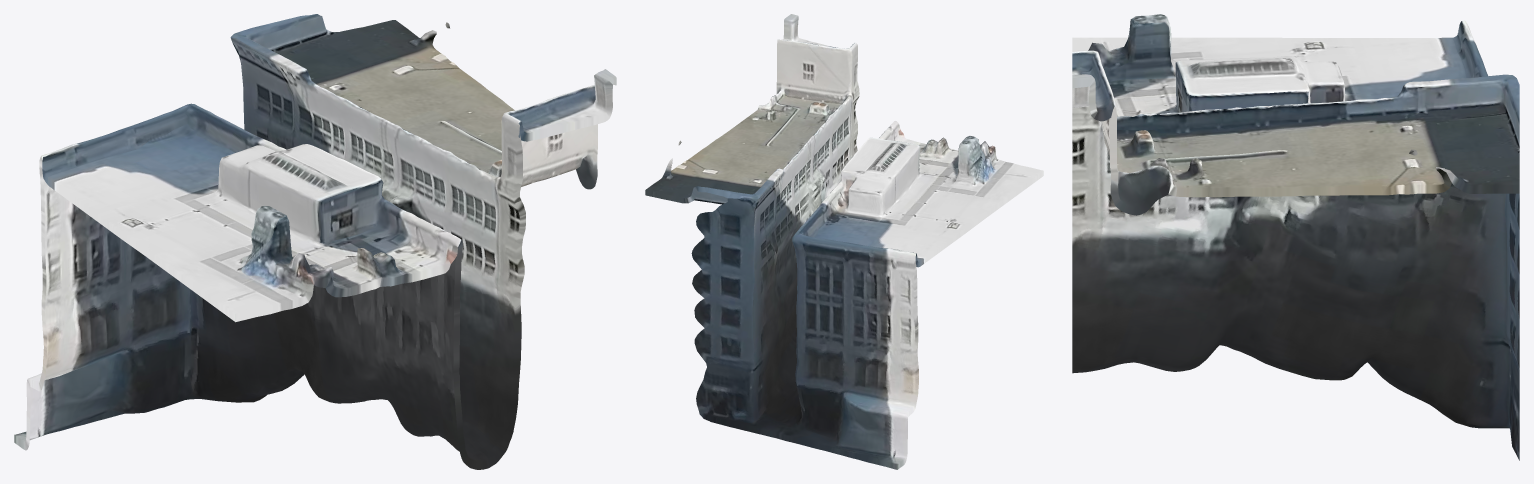
Rendered from z20-167757-405244-h0-yup-uvflip-v3-world.glb.
3 views of the same model, side by side, from view 1: azimuth 30°, elevation 25°; view 2: azimuth 150°, elevation 25°; view 3: azimuth 270°, elevation 25° (orthographic). The views are drawn at different scales.
Size of the model in its own units: 30.16 by 32.88 by 30.32.
Materials: 1 (1 with a texture image).
